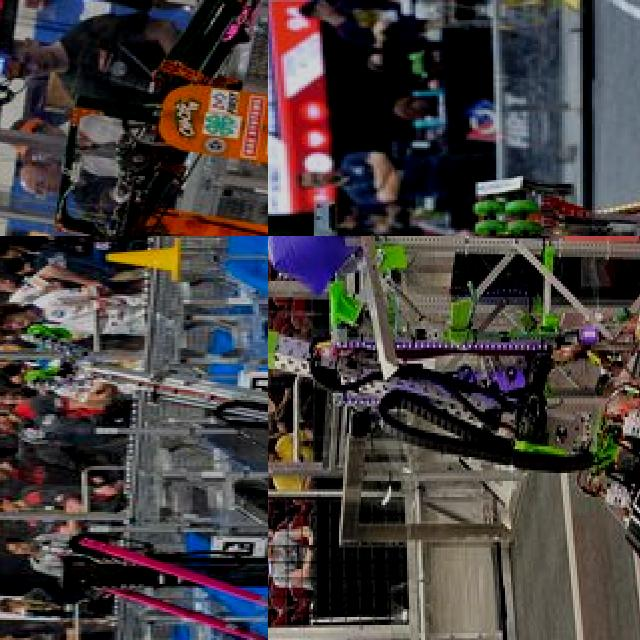FRC-Robots: (268, 236, 640, 640), (268, 45, 640, 236), (3, 0, 268, 236), (0, 295, 268, 471)
